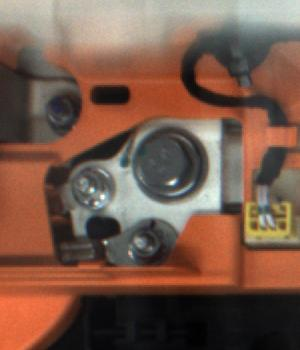nut_b: (130, 128, 210, 202)
